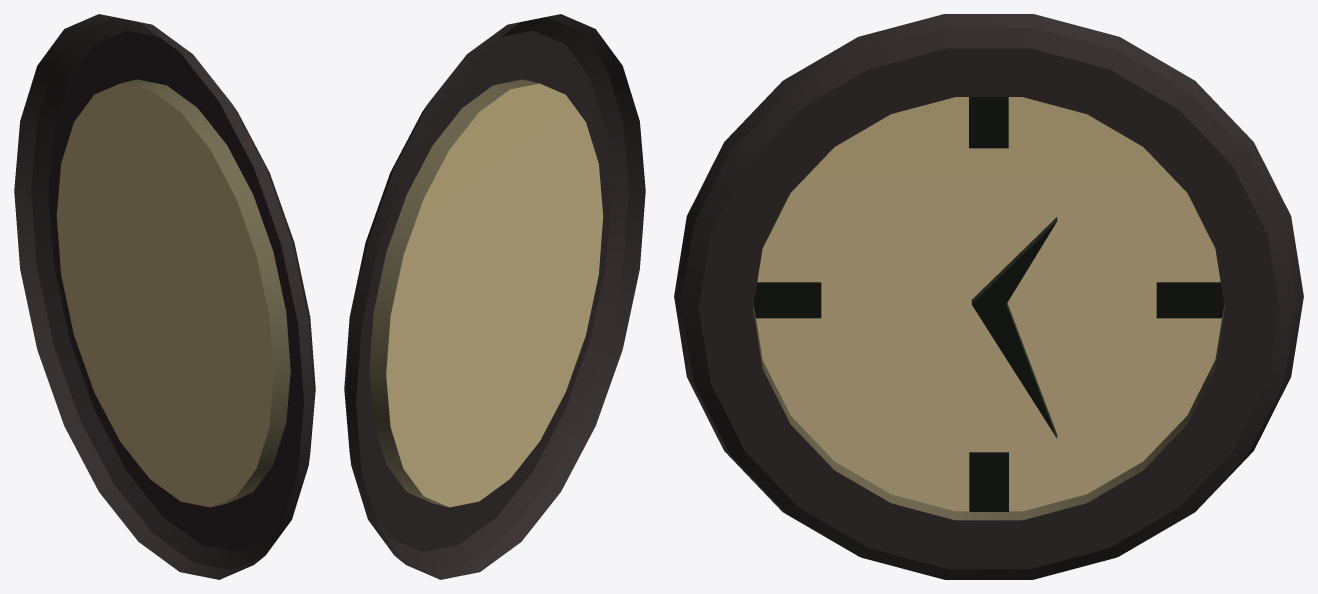
File: clock1.fbx
3 renders of one model, left to right at view 1: azimuth 30°, elevation 25°; view 2: azimuth 150°, elevation 25°; view 3: azimuth 270°, elevation 25°, orthographic. The views are drawn at different scales.
Visible parts, largest first — view 1: clock1; view 2: clock1; view 3: clock1.
Part boxes in pixels (x1=…): clock1: x1=14, y1=14, x2=315, y2=579; clock1: x1=344, y1=14, x2=645, y2=579; clock1: x1=674, y1=14, x2=1303, y2=579.
Bounding box in the file's own units: 0.0405 × 0.8753 × 0.8843.
